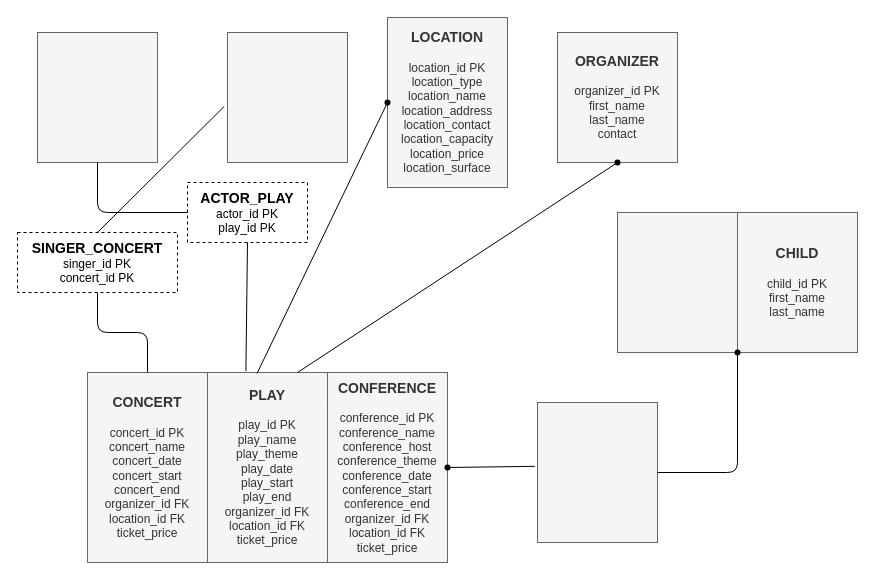
Image size: 875x580. Some labels were removed from this diagram. Here are the shapes that lost their labels. From the top down, the centre of each, then its label:
(x=97, y=97): ACTOR actor_id PK actor_name actor_price
(x=287, y=97): SINGER singer_id PK singer_name singer_type singer_price
(x=677, y=282): ADULT adult_id PK first_name last_name contact
(x=597, y=472): TICKET ticket_id PK client_id FK event_id FK ticket_seat ticket_price
